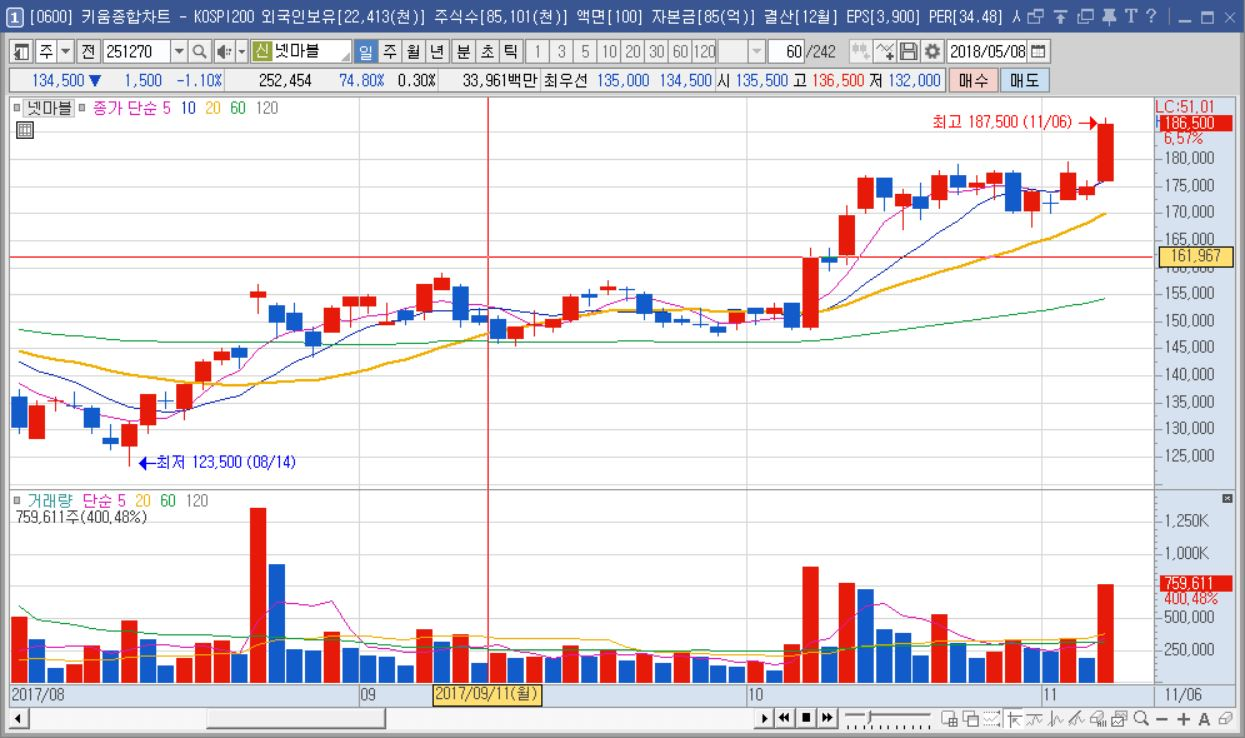up: (801, 109, 1116, 683)
